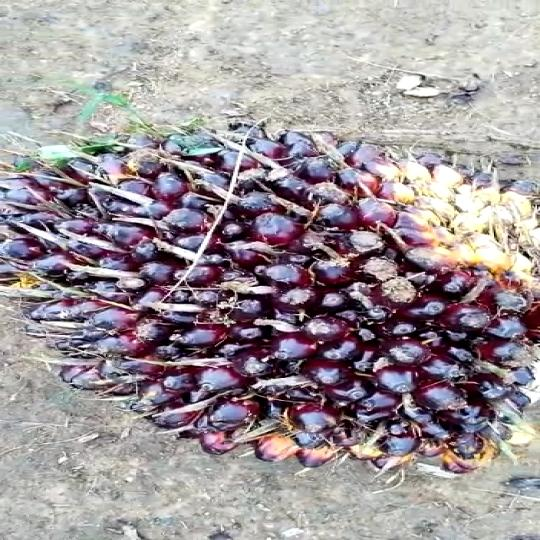mentah: (0, 94, 540, 480)
